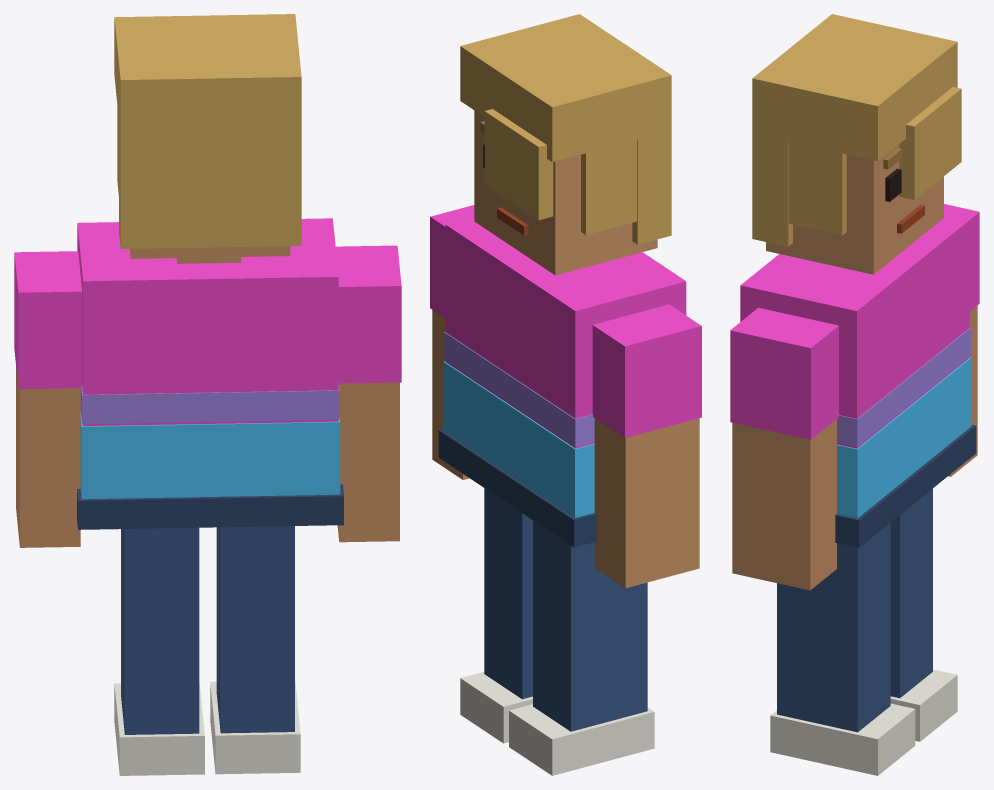
The model's file is teen_emo_2.glb.
3 views of the same model, side by side, from view 1: azimuth 30°, elevation 25°; view 2: azimuth 150°, elevation 25°; view 3: azimuth 270°, elevation 25° (orthographic). The views are drawn at different scales.
Parts seen in each view (by area): view 1: Box11, Box22, Box24, Box12, Box1, Box6, Box3, Box8, Box14, Box13, Box4, Box9 (+5 smaller); view 2: Box11, Box22, Box1, Box3, Box4, Box12, Box6, Box16, Box2, Box23, Box14, Box5 (+7 smaller); view 3: Box11, Box22, Box6, Box8, Box9, Box12, Box16, Box1, Box7, Box23, Box26, Box10 (+7 smaller).
Boxes of the visible parts, x1,y1,x2,y2 form: Box11: (77, 218, 338, 425); Box22: (114, 14, 301, 137); Box24: (119, 109, 301, 248); Box12: (80, 411, 340, 499); Box1: (121, 527, 199, 734); Box6: (216, 526, 294, 733); Box3: (14, 251, 82, 389); Box8: (335, 245, 401, 383); Box14: (77, 484, 343, 529); Box13: (80, 382, 339, 424); Box4: (16, 367, 80, 504); Box9: (339, 382, 399, 498); Box11: (445, 217, 686, 448); Box22: (460, 14, 671, 162); Box1: (533, 520, 647, 731); Box3: (592, 304, 701, 437); Box4: (594, 418, 699, 546); Box12: (443, 361, 594, 517); Box6: (484, 488, 532, 699); Box16: (474, 110, 657, 275); Box2: (509, 704, 654, 775); Box23: (484, 109, 553, 220); Box14: (438, 429, 596, 547); Box5: (594, 523, 699, 588); Box11: (740, 214, 969, 448); Box22: (752, 14, 957, 161); Box6: (777, 523, 890, 732); Box8: (730, 307, 838, 439); Box9: (732, 419, 836, 548); Box12: (837, 357, 971, 518); Box16: (766, 144, 943, 274); Box1: (890, 488, 932, 698); Box7: (770, 703, 915, 775); Box23: (899, 87, 961, 199); Box26: (788, 141, 846, 235); Box10: (732, 525, 836, 590).
Size of the model in its own units: 0.7575 by 1.53 by 0.5179.
